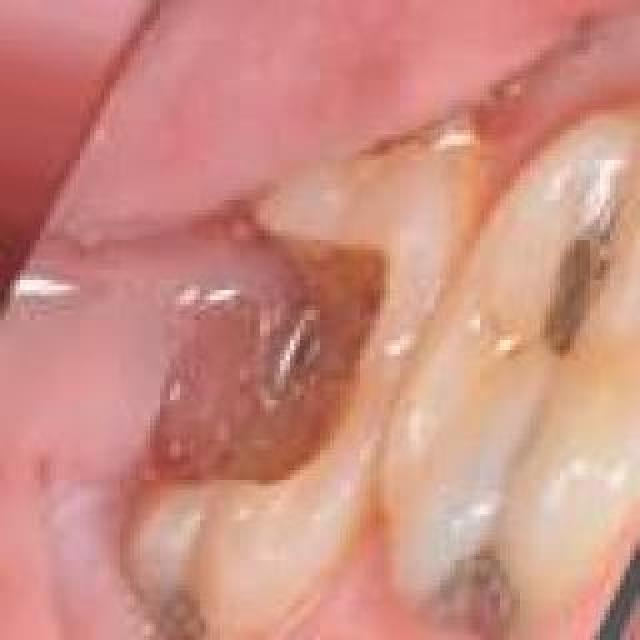cavities: (150, 594, 226, 640)
